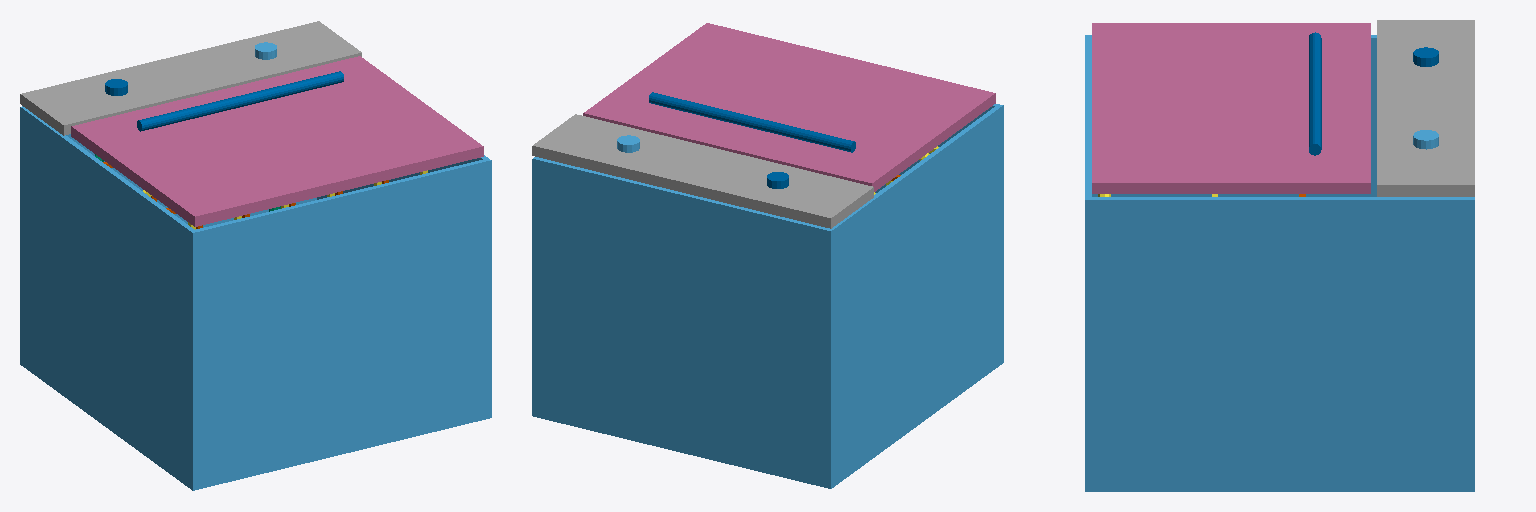
URDF robot description (an_oven_3):
<?xml version="1.0"?>
<robot name="an_oven_3">
  <link name="ventilation_grill">
    <visual>
      <geometry>
        <mesh filename="obj_parts/group_output/ventilation_grill.obj" />
      </geometry>
    </visual>
    <collision>
      <geometry>
        <mesh filename="obj_parts/group_output/ventilation_grill.obj" />
      </geometry>
    </collision>
  </link>
  <link name="oven_body">
    <visual>
      <geometry>
        <mesh filename="obj_parts/group_output/oven_body.obj" />
      </geometry>
    </visual>
    <collision>
      <geometry>
        <mesh filename="obj_parts/group_output/oven_body.obj" />
      </geometry>
    </collision>
  </link>
  <link name="heating_element_top">
    <visual>
      <geometry>
        <mesh filename="obj_parts/group_output/heating_element_top.obj" />
      </geometry>
    </visual>
    <collision>
      <geometry>
        <mesh filename="obj_parts/group_output/heating_element_top.obj" />
      </geometry>
    </collision>
  </link>
  <link name="heating_element_bottom">
    <visual>
      <geometry>
        <mesh filename="obj_parts/group_output/heating_element_bottom.obj" />
      </geometry>
    </visual>
    <collision>
      <geometry>
        <mesh filename="obj_parts/group_output/heating_element_bottom.obj" />
      </geometry>
    </collision>
  </link>
  <link name="oven_handle">
    <visual>
      <geometry>
        <mesh filename="obj_parts/group_output/oven_handle.obj" />
      </geometry>
      <origin xyz="0.0 2.95 -2.45" rpy="0.0 0.0 0.0" />
    </visual>
    <collision>
      <geometry>
        <mesh filename="obj_parts/group_output/oven_handle.obj" />
      </geometry>
      <origin xyz="0.0 2.95 -2.45" rpy="0.0 0.0 0.0" />
    </collision>
  </link>
  <link name="wire_rack_2">
    <visual>
      <geometry>
        <mesh filename="obj_parts/group_output/wire_rack_2.obj" />
      </geometry>
      <origin xyz="0.0 -1.1 0" rpy="0.0 0.0 0.0" />
    </visual>
    <collision>
      <geometry>
        <mesh filename="obj_parts/group_output/wire_rack_2.obj" />
      </geometry>
    </collision>
  </link>
  <link name="oven_door">
    <visual>
      <geometry>
        <mesh filename="obj_parts/group_output/oven_door.obj" />
      </geometry>
      <origin xyz="0.0 2.95 -2.45" rpy="0.0 0.0 0.0" />
    </visual>
    <collision>
      <geometry>
        <mesh filename="obj_parts/group_output/oven_door.obj" />
      </geometry>
      <origin xyz="0.0 2.95 -2.45" rpy="0.0 0.0 0.0" />
    </collision>
  </link>
  <link name="control_panel">
    <visual>
      <geometry>
        <mesh filename="obj_parts/group_output/control_panel.obj" />
      </geometry>
    </visual>
    <collision>
      <geometry>
        <mesh filename="obj_parts/group_output/control_panel.obj" />
      </geometry>
    </collision>
  </link>
  <link name="glass_viewing_window">
    <visual>
      <geometry>
        <mesh filename="obj_parts/group_output/glass_viewing_window.obj" />
      </geometry>
      <origin xyz="0.0 2.95 -2.45" rpy="0.0 0.0 0.0" />
    </visual>
    <collision>
      <geometry>
        <mesh filename="obj_parts/group_output/glass_viewing_window.obj" />
      </geometry>
      <origin xyz="0.0 2.95 -2.45" rpy="0.0 0.0 0.0" />
    </collision>
  </link>
  <link name="control_knob_2">
    <visual>
      <geometry>
        <mesh filename="obj_parts/group_output/control_knob_2.obj" />
      </geometry>
      <origin xyz="-1.5 -2.25 -2.775" rpy="0.0 0.0 0.0" />
    </visual>
    <collision>
      <geometry>
        <mesh filename="obj_parts/group_output/control_knob_2.obj" />
      </geometry>
      <origin xyz="-1.5 -2.25 -2.775" rpy="0.0 0.0 0.0" />
    </collision>
  </link>
  <link name="oven_light">
    <visual>
      <geometry>
        <mesh filename="obj_parts/group_output/oven_light.obj" />
      </geometry>
    </visual>
    <collision>
      <geometry>
        <mesh filename="obj_parts/group_output/oven_light.obj" />
      </geometry>
    </collision>
  </link>
  <link name="wire_rack_1">
    <visual>
      <geometry>
        <mesh filename="obj_parts/group_output/wire_rack_1.obj" />
      </geometry>
    <origin xyz="0 -1.0 0.0" rpy="0 0 0" />
    </visual>
    <collision>
      <geometry>
        <mesh filename="obj_parts/group_output/wire_rack_1.obj" />
      </geometry>
    </collision>
  </link>
  <link name="control_knob_1">
    <visual>
      <geometry>
        <mesh filename="obj_parts/group_output/control_knob_1.obj" />
      </geometry>
      <origin xyz="1.5 -2.25 -2.775" rpy="0.0 0.0 0.0" />
    </visual>
    <collision>
      <geometry>
        <mesh filename="obj_parts/group_output/control_knob_1.obj" />
      </geometry>
      <origin xyz="1.5 -2.25 -2.775" rpy="0.0 0.0 0.0" />
    </collision>
  </link>
  <joint name="oven_body_to_oven_door_hinge" type="revolute">
    <parent link="oven_body" />
    <child link="oven_door" />
    <origin xyz="0 -2.95 2.45" rpy="0 0 0" />
    <axis xyz="-1 0 0" />
    <limit lower="-1.57" upper="0.0" effort="20" velocity="1.0" />
  </joint>
  <joint name="oven_door_to_glass_window" type="fixed">
    <parent link="oven_door" />
    <child link="glass_viewing_window" />
    
    
  </joint>
  <joint name="oven_door_to_handle" type="fixed">
    <parent link="oven_door" />
    <child link="oven_handle" />
    
    
  </joint>
  <joint name="oven_body_to_control_panel" type="fixed">
    <parent link="oven_body" />
    <child link="control_panel" />
    
    
  </joint>
  <joint name="control_panel_to_knob_1" type="continuous">
    <parent link="control_panel" />
    <child link="control_knob_1" />
    <origin xyz="-1.5 2.25 2.775" rpy="0 0 0" />
    <axis xyz="0 0 1" />
    
  </joint>
  <joint name="control_panel_to_knob_2" type="continuous">
    <parent link="control_panel" />
    <child link="control_knob_2" />
    <origin xyz="1.5 2.25 2.775" rpy="0 0 0" />
    <axis xyz="0 0 1" />
    
  </joint>
  <joint name="oven_body_to_wire_rack_1_slide" type="prismatic">
    <parent link="oven_body" />
    <child link="wire_rack_1" />
    <axis xyz="0 0 1" />
    <limit lower="0.0" upper="3.4" effort="10" velocity="0.5" />
  </joint>
  <joint name="oven_body_to_wire_rack_2_slide" type="prismatic">
    <parent link="oven_body" />
    <child link="wire_rack_2" />
    <axis xyz="0 0 1" />
    <limit lower="0.0" upper="3.4" effort="10" velocity="0.5" />
  </joint>
  <joint name="oven_body_to_heating_element_top" type="fixed">
    <parent link="oven_body" />
    <child link="heating_element_top" />
    
    
  </joint>
  <joint name="oven_body_to_heating_element_bottom" type="fixed">
    <parent link="oven_body" />
    <child link="heating_element_bottom" />
    
    
  </joint>
  <joint name="oven_body_to_oven_light" type="fixed">
    <parent link="oven_body" />
    <child link="oven_light" />
    
    
  </joint>
  <joint name="oven_body_to_ventilation_grill" type="fixed">
    <parent link="oven_body" />
    <child link="ventilation_grill" />
    
    
  </joint>
</robot>

--- Render facts (derived) ---
3 views of the same robot in one strip: view 1: azimuth 30°, elevation 25°; view 2: azimuth 150°, elevation 25°; view 3: azimuth 270°, elevation 25° (orthographic).
Robot: an_oven_3 — 13 links, 12 joints (1 revolute, 2 continuous, 2 prismatic, 7 fixed); root link oven_body; default pose: all joints at 0.
Visible links, largest first — view 1: oven_body, oven_door, control_panel, oven_handle; view 2: oven_body, oven_door, control_panel, oven_handle; view 3: oven_body, oven_door, control_panel, oven_handle.
Boxes of the visible links, x1,y1,x2,y2 form: oven_body: (20,106,491,490); oven_door: (71,56,483,226); control_panel: (20,21,361,135); oven_handle: (137,71,343,131); oven_body: (532,104,1003,488); oven_door: (583,23,995,191); control_panel: (532,114,873,228); oven_handle: (649,92,855,152); oven_body: (1085,35,1474,491); oven_door: (1092,23,1370,193); control_panel: (1377,20,1474,196); oven_handle: (1309,32,1321,155).
Bounding box of the posed robot: 6 × 6 × 5.53 m (x, y, z).
13 mesh visuals loaded from 13 distinct referenced files (13 OBJ).
